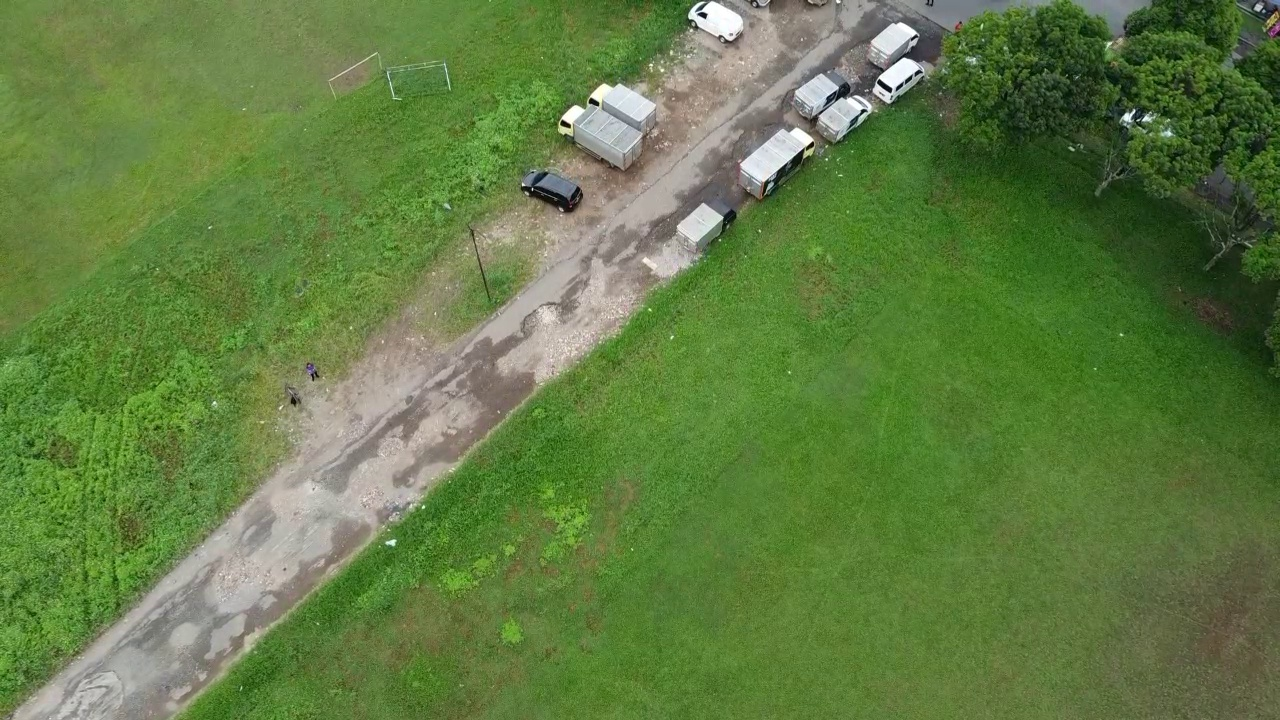mobil: (517, 164, 590, 216), (873, 53, 930, 108), (684, 1, 749, 42)
